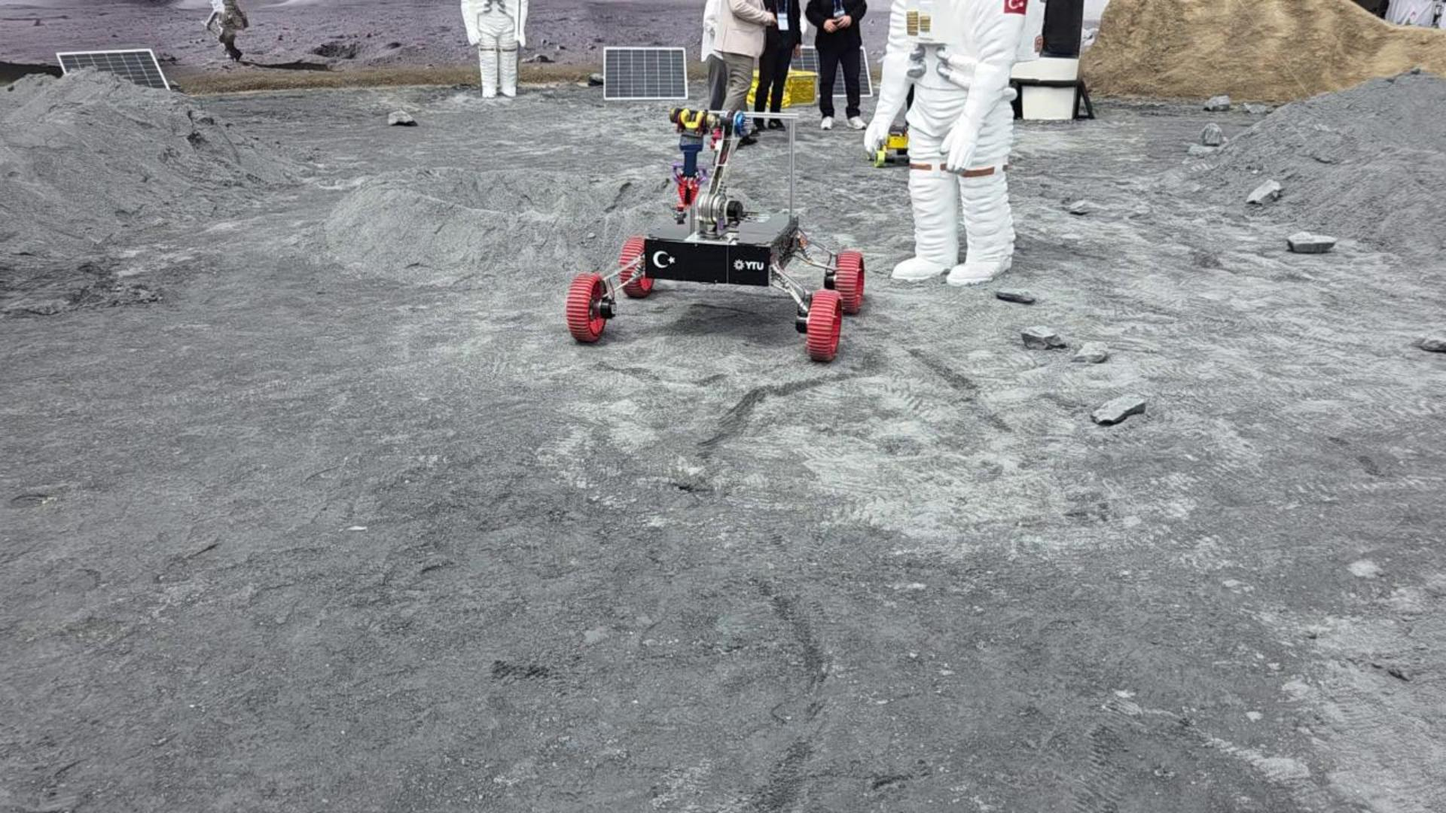rock: (1090, 394, 1144, 425), (1287, 231, 1336, 253), (1021, 326, 1068, 348), (1246, 178, 1281, 204), (1072, 342, 1110, 362), (1200, 122, 1225, 146), (1415, 333, 1445, 352), (995, 290, 1035, 304), (387, 110, 416, 125), (1204, 95, 1230, 111), (1068, 200, 1091, 215)
